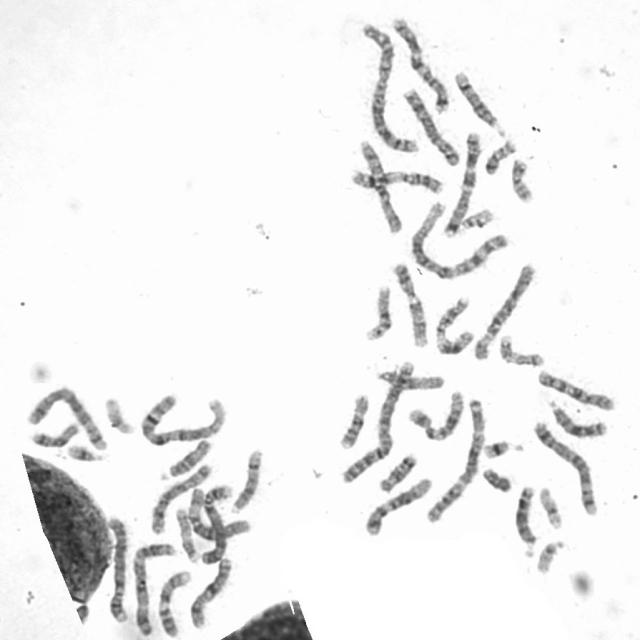A1: (405, 197, 510, 281), (136, 390, 229, 446)
A2: (337, 356, 418, 486), (357, 17, 420, 154)
A3: (421, 393, 488, 525), (128, 536, 178, 637)
B4: (195, 480, 234, 566), (102, 511, 130, 625)
B5: (528, 417, 600, 517), (22, 381, 110, 452)
C10: (354, 135, 404, 234), (534, 365, 617, 412)
C11: (344, 164, 446, 196), (431, 292, 476, 356)
C12: (360, 472, 434, 538), (404, 385, 466, 443)
C6: (468, 258, 538, 363), (184, 483, 252, 542)
C7: (387, 12, 453, 114), (438, 126, 484, 238)
C8: (398, 83, 462, 168), (145, 459, 213, 536)
C9: (388, 258, 430, 349), (152, 565, 194, 638)
D13: (544, 394, 609, 440), (511, 480, 539, 558)
D14: (450, 66, 507, 138), (228, 445, 264, 514)
D15: (158, 435, 214, 481), (372, 366, 446, 391)
E16: (335, 389, 371, 451), (360, 280, 394, 342)
E17: (494, 330, 546, 368), (170, 503, 202, 564)
E18: (374, 449, 419, 494), (26, 418, 81, 448)
F19: (99, 392, 136, 435), (534, 482, 565, 530)
F20: (480, 134, 518, 176), (505, 154, 535, 204)
G21: (62, 439, 107, 464), (478, 434, 512, 460)
G22: (531, 535, 567, 575), (456, 204, 495, 232)
X: (184, 554, 234, 630)
Y: (478, 463, 514, 494)
